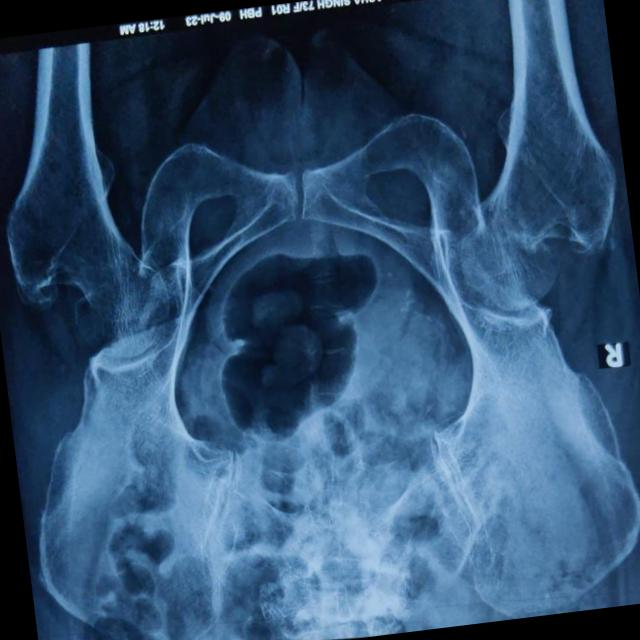normal-left: (6, 71, 167, 356)
right-neck: (475, 10, 615, 257), (457, 222, 558, 310)
